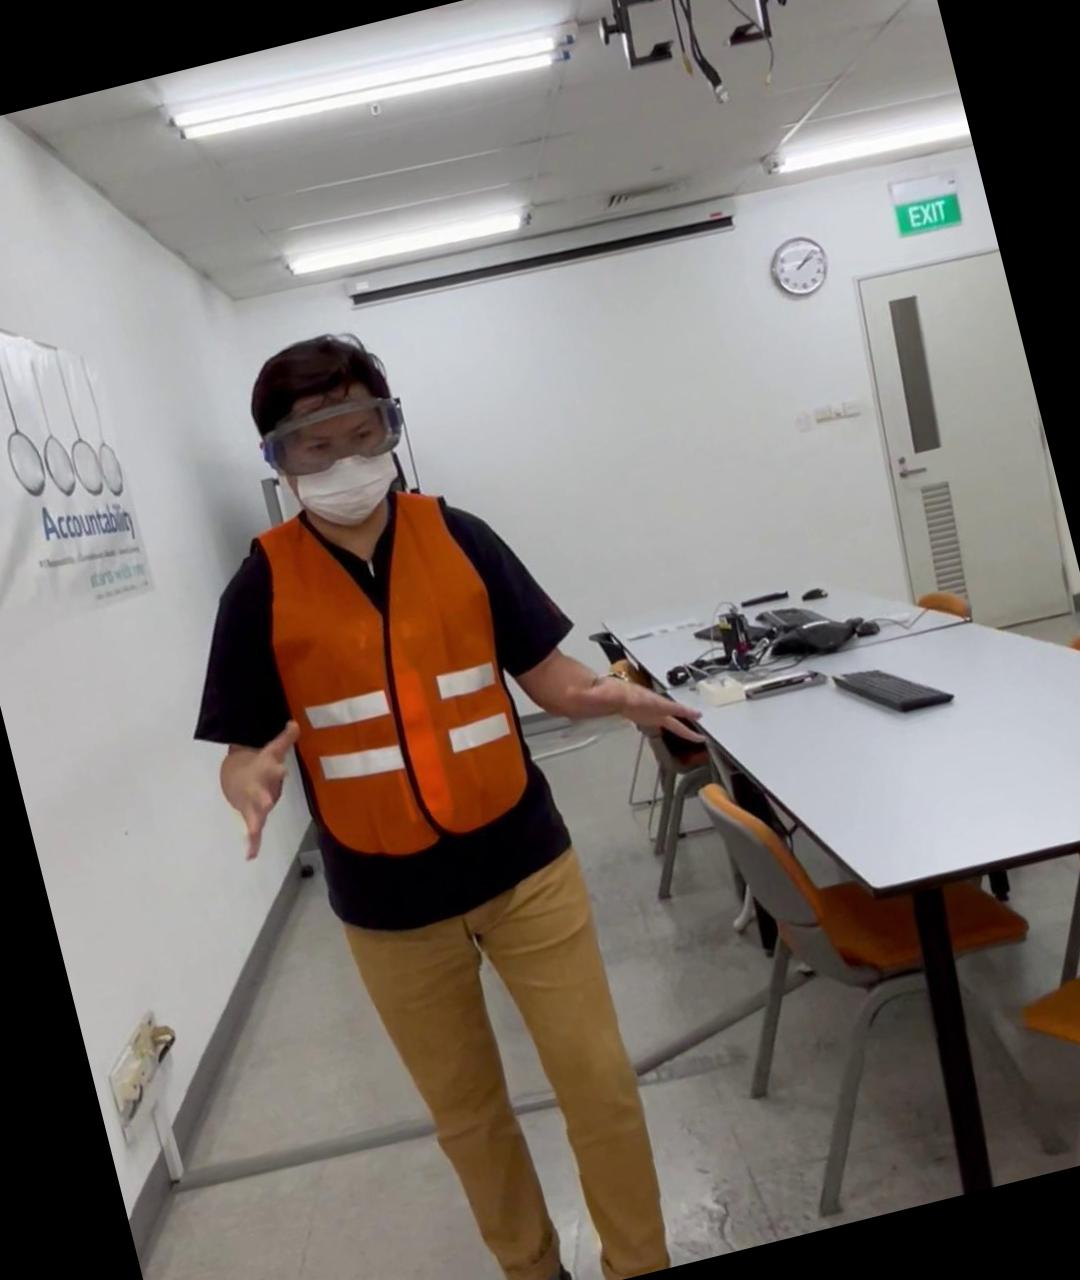No-gloves: (196, 709, 333, 869), (562, 639, 714, 778)
